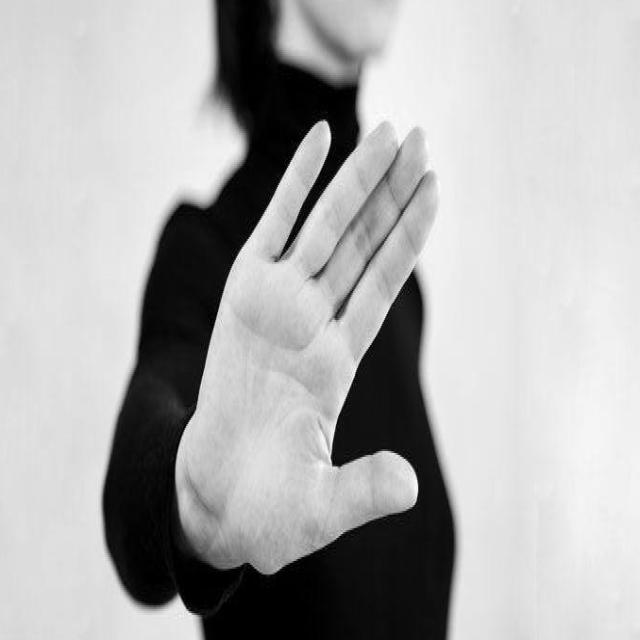stop: (179, 110, 444, 583)
